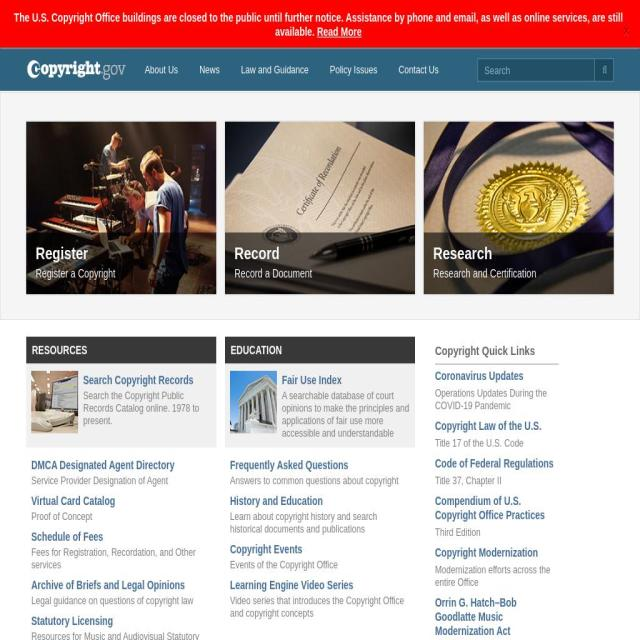button: (224, 122, 415, 294), (423, 122, 614, 294), (26, 122, 216, 294), (434, 595, 560, 638), (230, 49, 319, 91), (434, 493, 560, 522), (319, 49, 388, 91), (388, 49, 450, 91), (134, 49, 188, 91), (434, 368, 560, 384), (434, 418, 560, 434), (434, 456, 560, 471), (434, 545, 560, 560), (188, 49, 231, 91)
field: (477, 58, 595, 82)
heading: (230, 337, 409, 362), (32, 337, 210, 362), (434, 338, 560, 363), (432, 242, 492, 262), (36, 242, 88, 262), (234, 242, 279, 262)
image: (224, 122, 415, 294), (423, 122, 614, 294), (26, 122, 216, 294), (26, 49, 126, 91), (229, 370, 277, 433), (31, 370, 78, 433)
link: (434, 595, 560, 638), (434, 493, 560, 522), (31, 578, 185, 592), (434, 368, 560, 384), (434, 418, 560, 434), (32, 458, 175, 472), (434, 456, 560, 471), (434, 545, 560, 560), (229, 578, 353, 592), (83, 372, 194, 387), (230, 458, 348, 472), (229, 493, 323, 508), (31, 493, 115, 508), (31, 614, 113, 628), (31, 529, 103, 543), (230, 542, 302, 556), (281, 372, 342, 387), (317, 25, 362, 38)
text: (14, 11, 624, 38), (229, 388, 410, 448), (31, 388, 211, 435), (229, 509, 410, 535), (229, 593, 410, 619), (31, 545, 211, 571), (434, 386, 560, 412), (434, 562, 560, 588), (234, 264, 406, 282), (432, 264, 604, 282), (35, 264, 206, 282), (229, 473, 410, 487), (229, 557, 410, 571), (31, 473, 211, 487), (31, 509, 211, 523), (31, 593, 211, 607), (31, 629, 211, 640), (434, 473, 560, 487), (434, 436, 560, 449), (434, 525, 560, 538), (595, 58, 613, 80)
